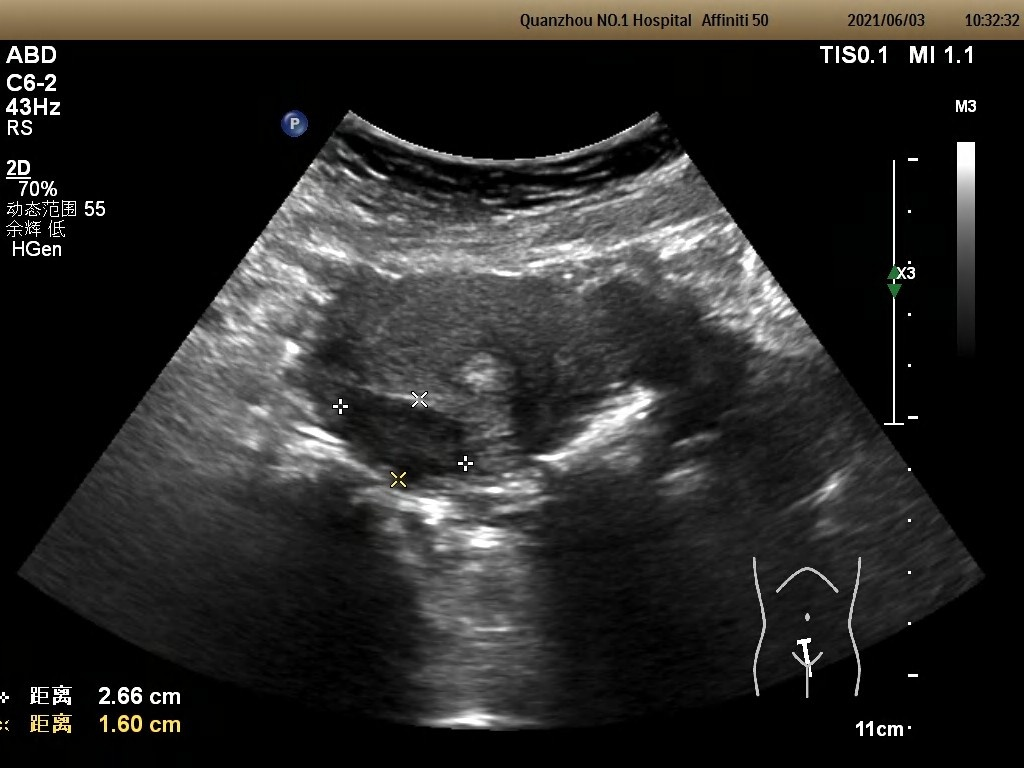肌瘤: (358, 401, 459, 478)
